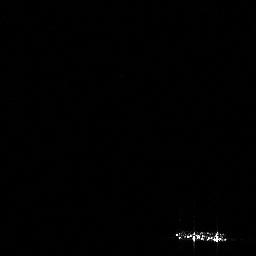ship: (172, 227, 229, 245)
